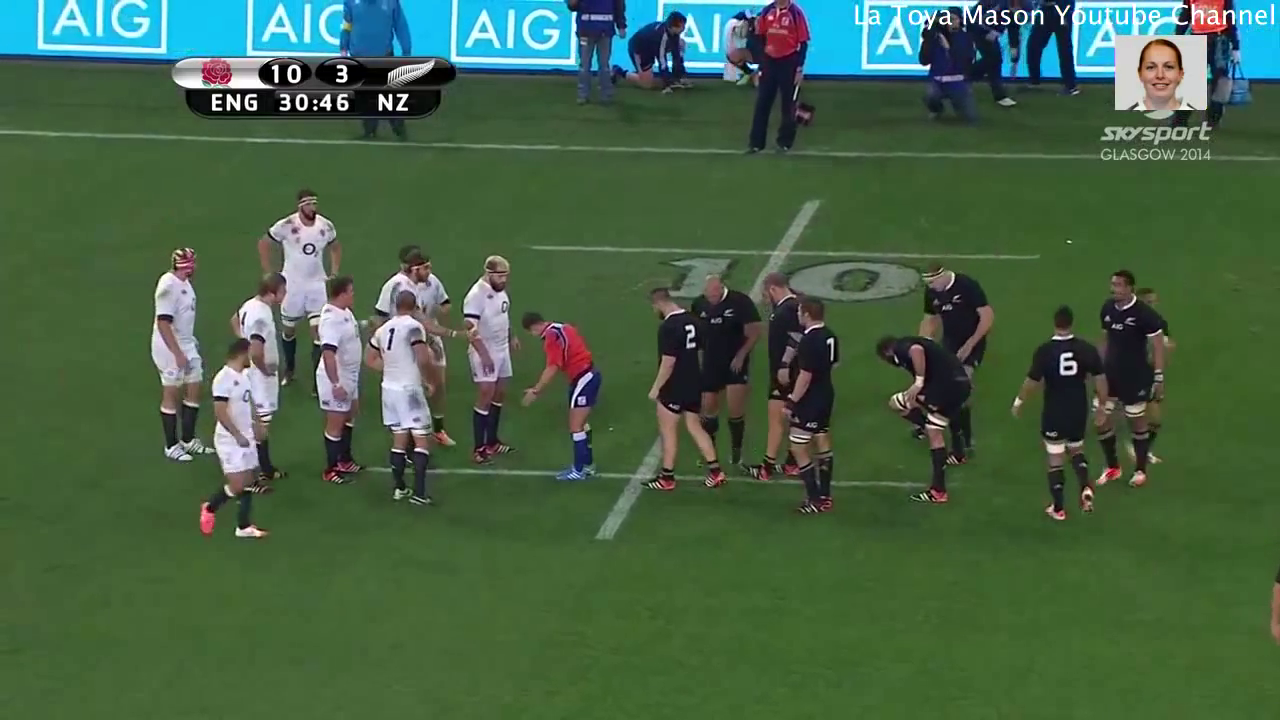10_metre: (520, 196, 1048, 314)
player: (1007, 301, 1111, 524), (254, 187, 347, 406), (871, 327, 974, 509), (361, 287, 444, 508), (641, 284, 729, 491), (195, 336, 272, 544), (740, 271, 809, 485), (1089, 265, 1154, 490), (520, 308, 604, 482), (228, 269, 292, 491), (692, 269, 761, 471), (785, 293, 843, 520), (309, 274, 369, 488), (153, 242, 208, 475), (462, 252, 517, 474), (913, 260, 997, 381)
